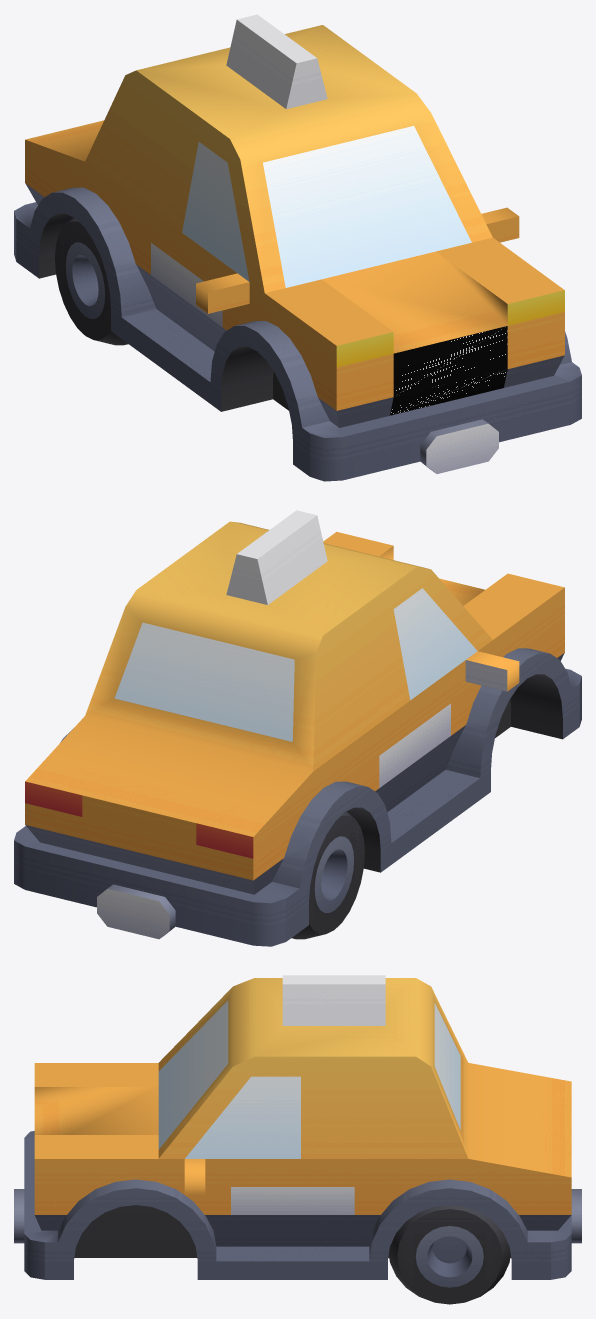
File: taxi_base.glb
3 renders of one model, top to bottom at view 1: azimuth 30°, elevation 25°; view 2: azimuth 150°, elevation 25°; view 3: azimuth 270°, elevation 25°, orthographic. The views are drawn at different scales.
Visible parts, largest first — view 1: body; view 2: body; view 3: body.
Part boxes in pixels (x1,y1,x2,y2): body: (14, 14, 581, 481); body: (14, 510, 581, 946); body: (14, 975, 581, 1304).
Bounding box in the file's own units: 1.5 × 1.5 × 2.75.
1 material, 1 textured.
